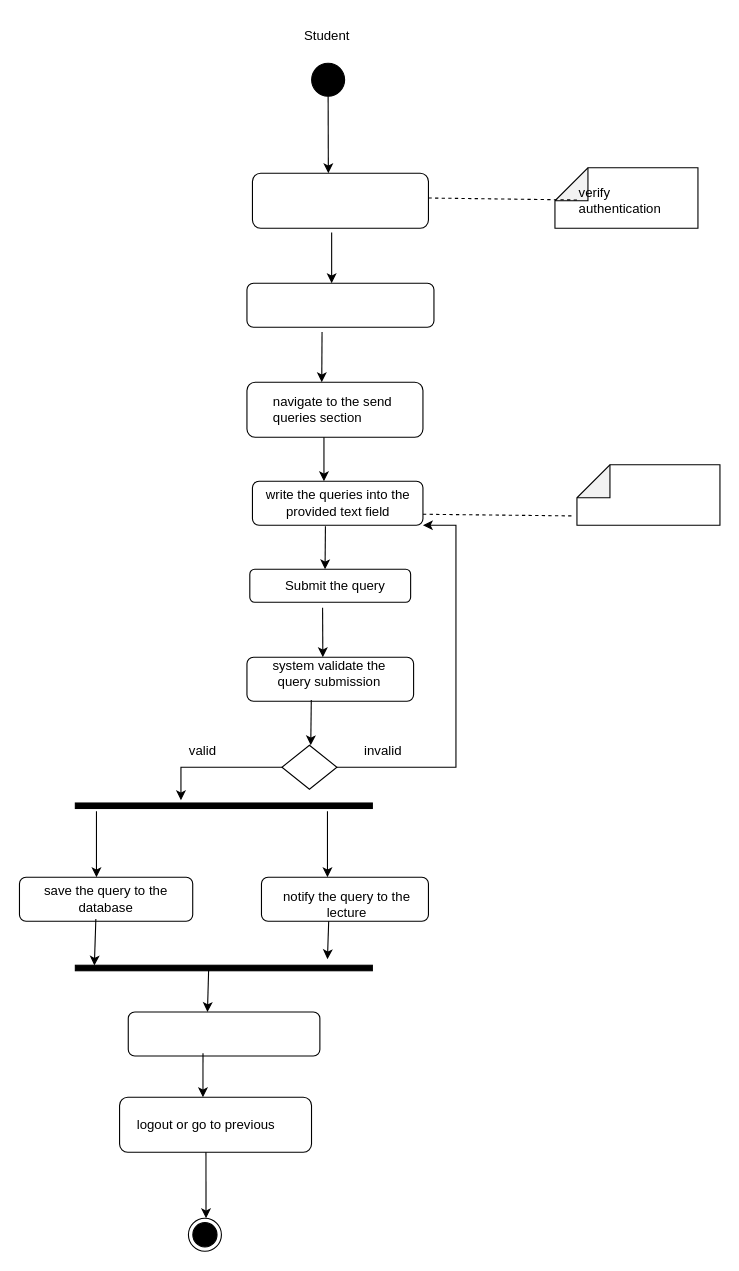
Image size: 739x1271. Some labels were removed from this diagram. The centre of each missing label's shape, as x and y in pixels:
login to the system: pixel 339 200
query text must not be empty and limited text: pixel 648 494
receive confirmation: pixel 223 1033
select a specific course: pixel 340 304
